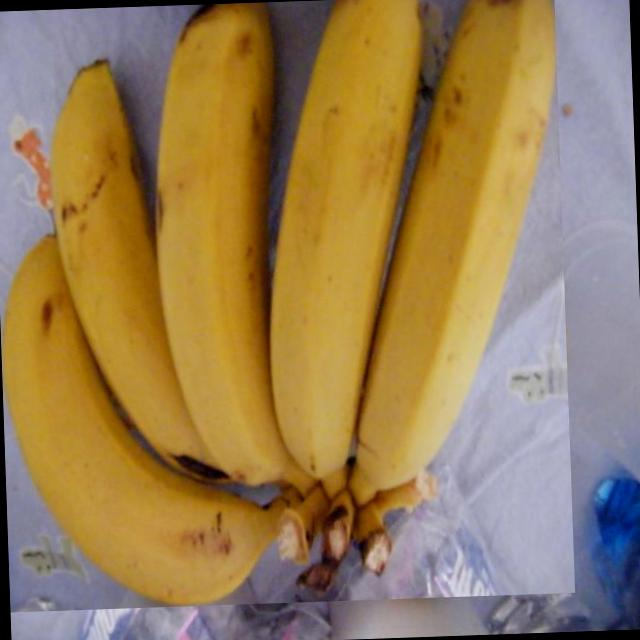Banana: (0, 0, 575, 612)
